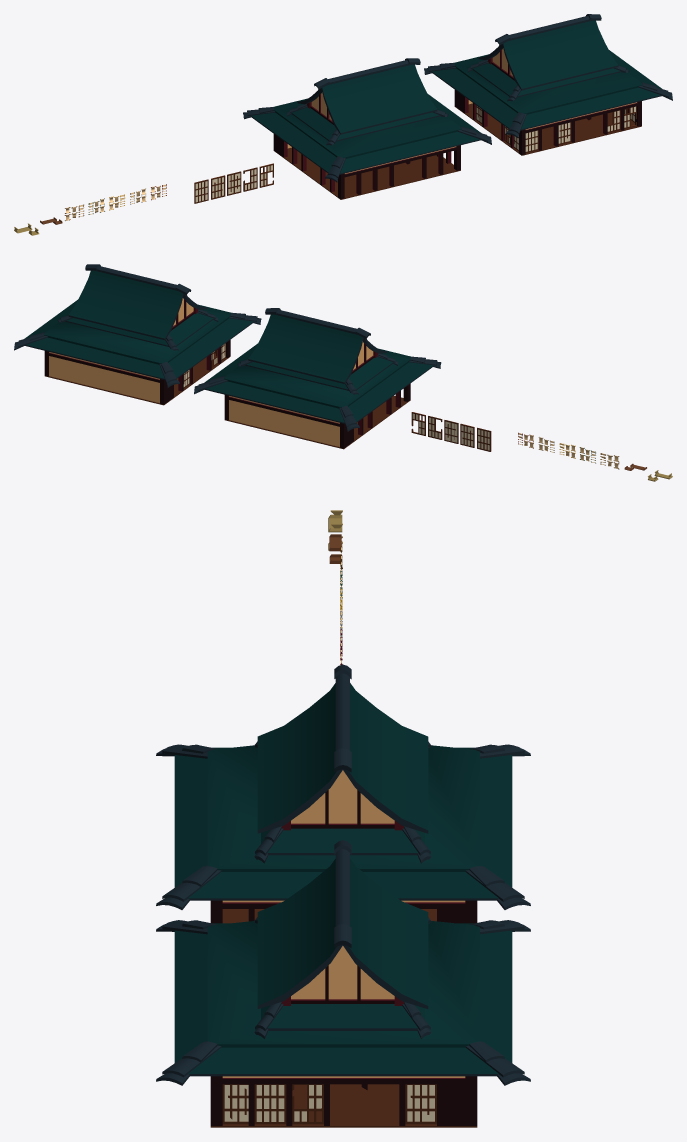
Rendered from semana_9.fbx.
3 renders of one model, top to bottom at view 1: azimuth 30°, elevation 25°; view 2: azimuth 150°, elevation 25°; view 3: azimuth 270°, elevation 25°, orthographic. The views are drawn at different scales.
Parts seen in each view (by area): view 1: dojo_ninja_exemplo, dojo_ninja; view 2: dojo_ninja_exemplo, dojo_ninja; view 3: dojo_ninja_exemplo, dojo_ninja.
Boxes of the visible parts, x1,y1,x2,y2 form: dojo_ninja_exemplo: [424, 14, 672, 155]; dojo_ninja: [243, 58, 491, 199]; dojo_ninja_exemplo: [14, 264, 261, 405]; dojo_ninja: [194, 308, 441, 449]; dojo_ninja_exemplo: [156, 840, 530, 1127]; dojo_ninja: [156, 664, 530, 923].
Bounding box in the file's own units: 9829 × 1410 × 2598.
